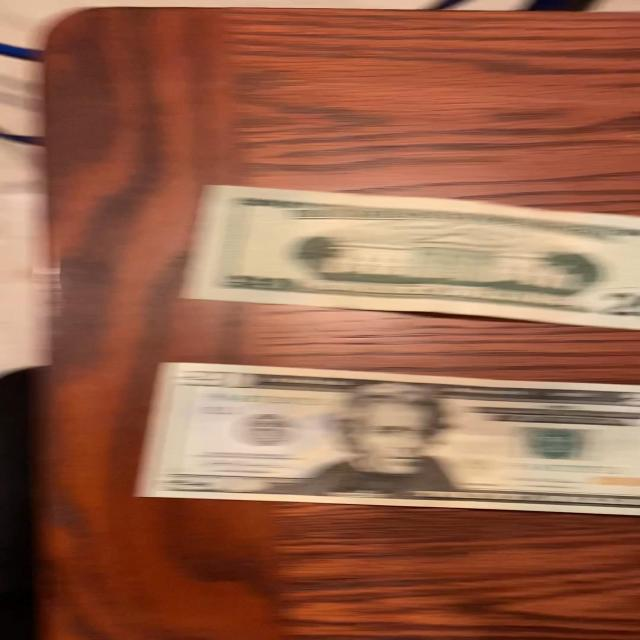20-Back: (166, 180, 640, 335)
20-Front: (127, 356, 640, 521)
